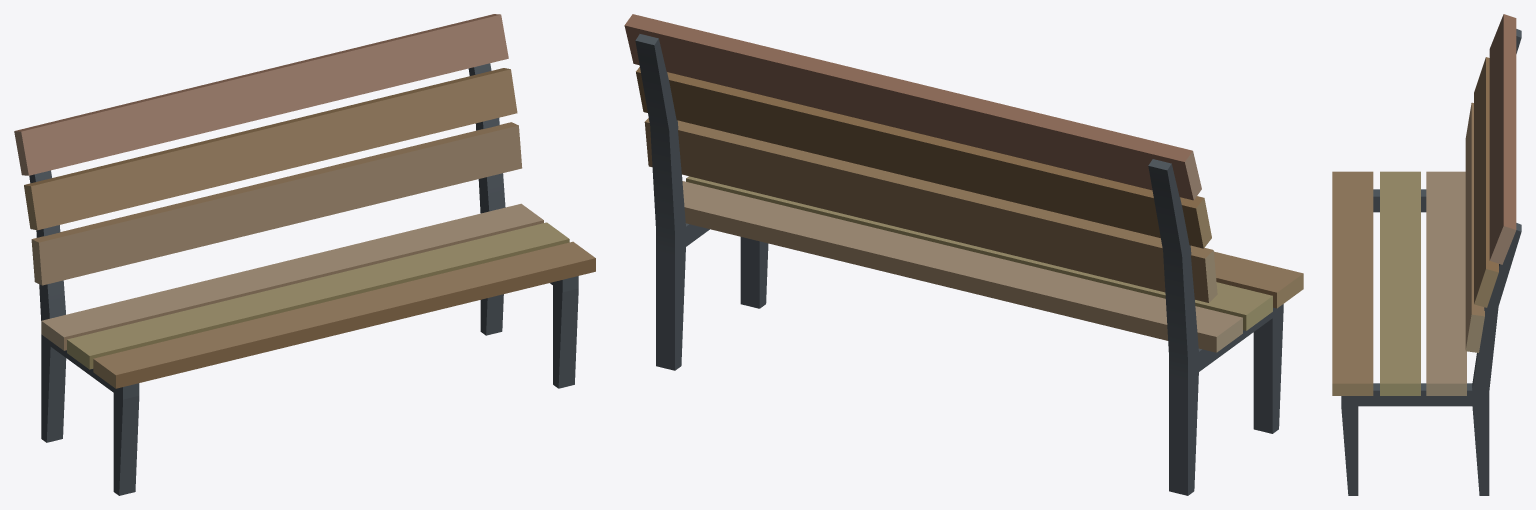
The model's file is clutter_bench.fbx.
3 renders of one model, left to right at view 1: azimuth 30°, elevation 25°; view 2: azimuth 150°, elevation 25°; view 3: azimuth 270°, elevation 25°, orthographic. The views are drawn at different scales.
Parts seen in each view (by area): view 1: Box05; view 2: Box05; view 3: Box05.
Part boxes in pixels (x1,y1,x2,y2): Box05: (14, 14, 595, 495); Box05: (624, 14, 1303, 495); Box05: (1332, 14, 1521, 495).
Size of the model in its own units: 2950 by 1113 by 1788.
